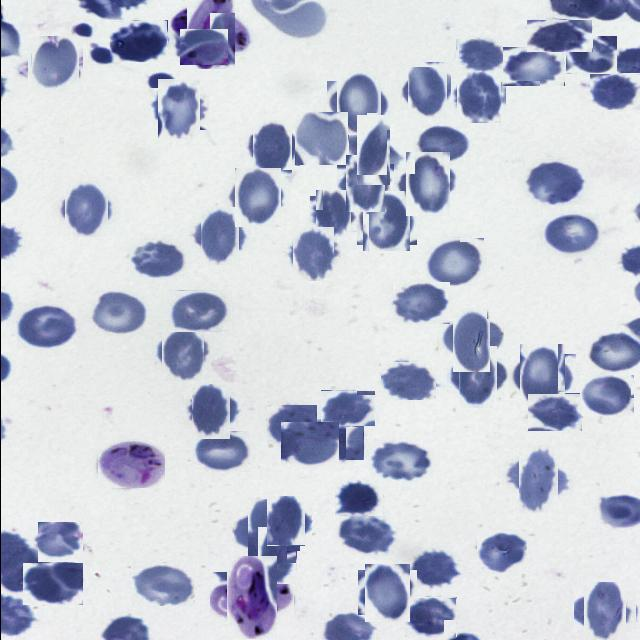red blood cell: (514, 349, 570, 405), (399, 156, 454, 212), (330, 76, 386, 130), (294, 111, 348, 166), (359, 194, 413, 248), (511, 452, 565, 506), (425, 237, 484, 286), (368, 438, 433, 482), (524, 159, 586, 205), (230, 171, 284, 223), (16, 303, 76, 349), (240, 505, 292, 558), (130, 563, 194, 606), (90, 291, 149, 337), (360, 566, 412, 618), (578, 586, 630, 638), (347, 124, 399, 176), (28, 39, 80, 90), (168, 290, 231, 332), (280, 422, 338, 467), (445, 314, 496, 365), (152, 84, 204, 134), (22, 563, 82, 605), (452, 352, 502, 402), (61, 184, 111, 234), (452, 71, 502, 121), (502, 46, 564, 86), (542, 213, 600, 255), (193, 430, 251, 472), (109, 20, 167, 62), (158, 328, 206, 378), (392, 282, 449, 324), (337, 515, 395, 556), (579, 374, 634, 416), (403, 66, 451, 114), (195, 212, 243, 260), (288, 230, 336, 278), (341, 160, 388, 208), (476, 530, 527, 574), (248, 123, 295, 170), (187, 388, 234, 435), (413, 124, 468, 164), (380, 361, 436, 400), (526, 19, 592, 52), (129, 240, 185, 278), (527, 393, 582, 431), (404, 597, 456, 637), (320, 390, 375, 426), (264, 499, 308, 544), (266, 405, 316, 444), (408, 550, 459, 588), (565, 36, 616, 74), (240, 550, 296, 584), (589, 73, 640, 110), (37, 522, 82, 562), (312, 193, 354, 235), (455, 38, 506, 72), (179, 29, 227, 65), (334, 481, 382, 516), (321, 426, 363, 460)
trophozoite: (218, 564, 284, 630), (178, 0, 243, 61), (97, 442, 164, 488)
